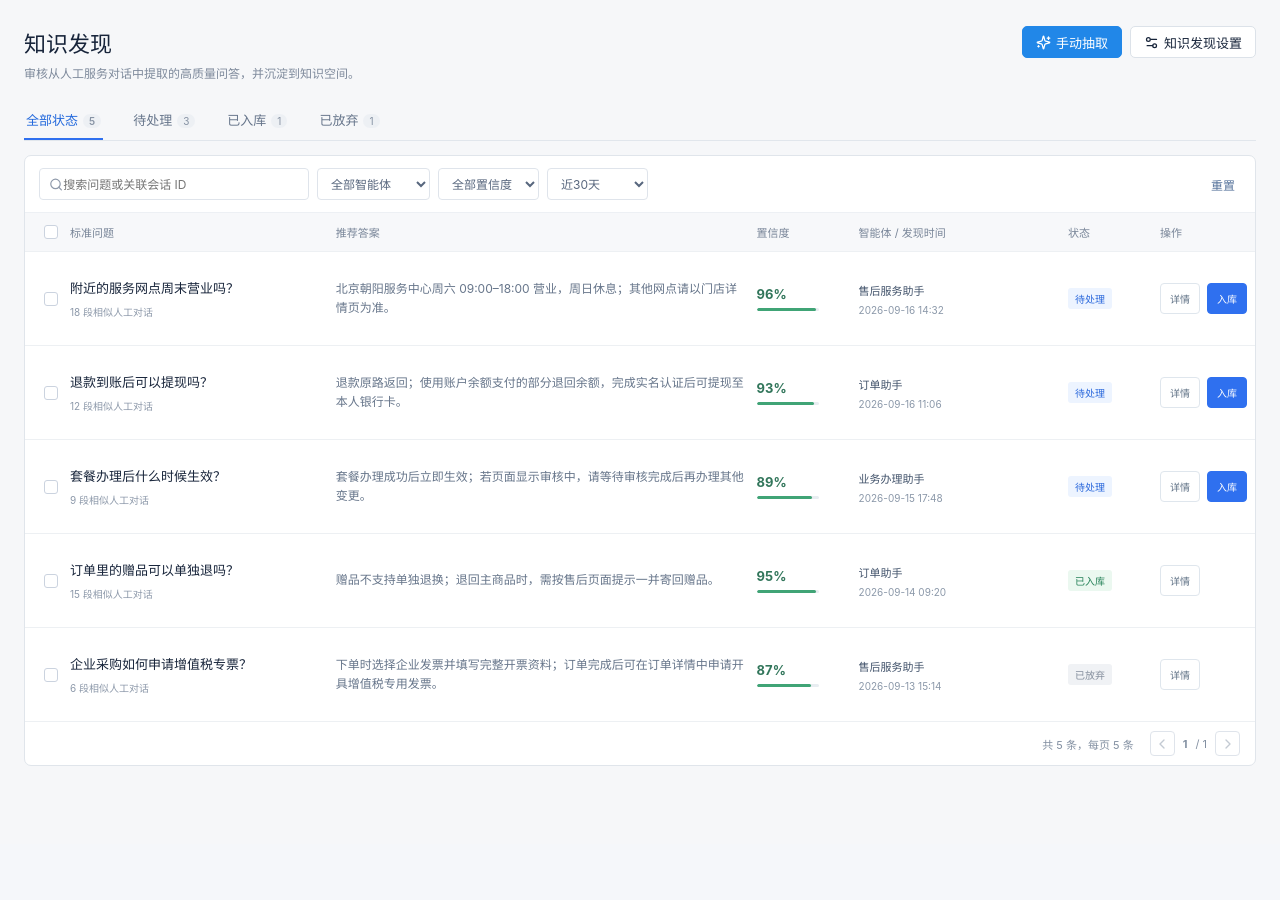
Test case: KnowledgeDiscoveryPage › reviews source conversation and adds a discovery to a selected knowledge space
Click the button "详情" in the row of "附近的服务网点周末营业吗？": (1180,298) x1=1160 y1=283 x2=1200 y2=314
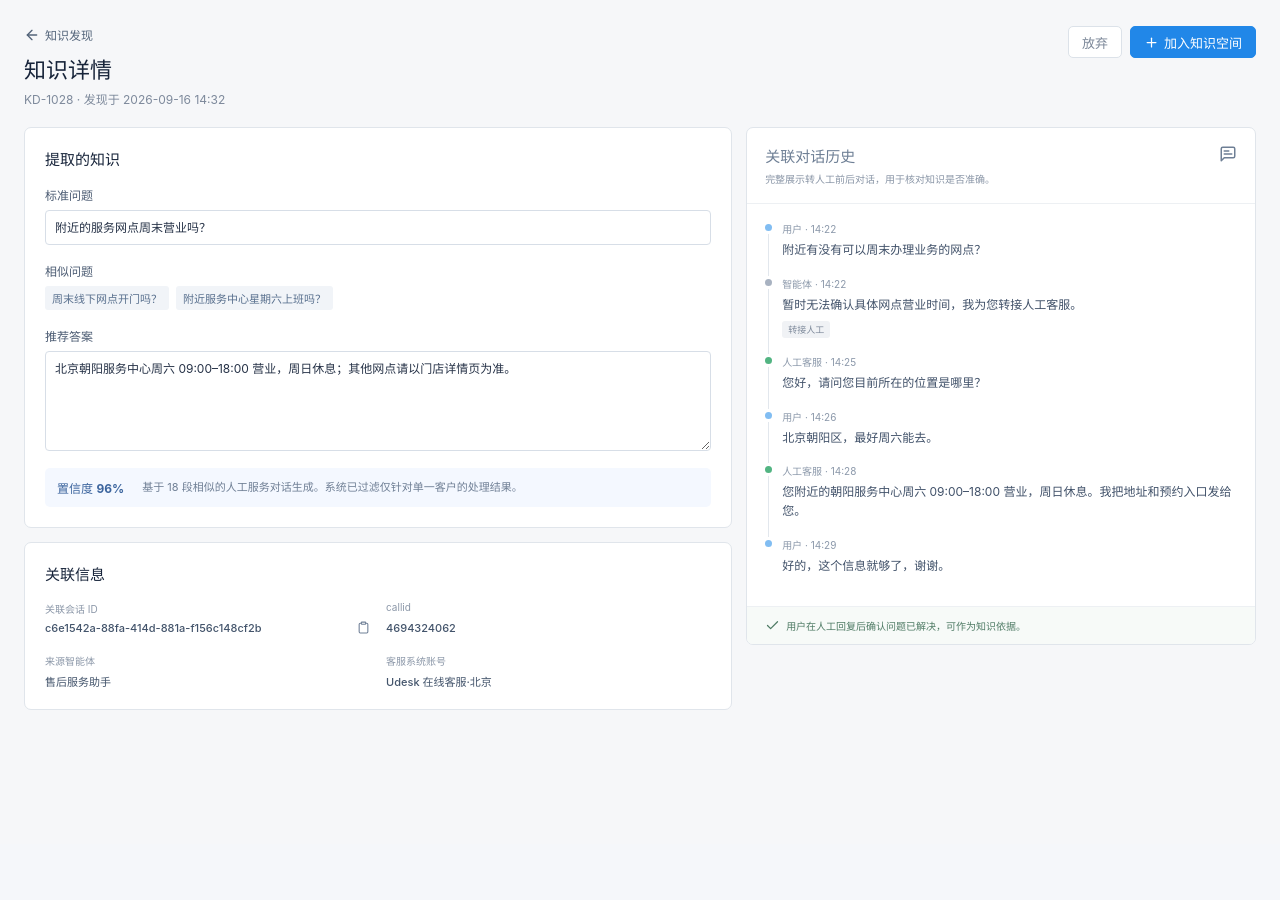
Check: the heading "知识详情" is shown, box x1=24 y1=57 x2=112 y2=83
Check: the text "c6e1542a-88fa-414d-881a-f156c148cf2b" is shown, box x1=45 y1=621 x2=262 y2=635
Check: the text "好的，这个信息就够了，谢谢。" is shown, box x1=782 y1=558 x2=950 y2=573
Click the button "加入知识空间": (1193,42) x1=1130 y1=26 x2=1256 y2=58
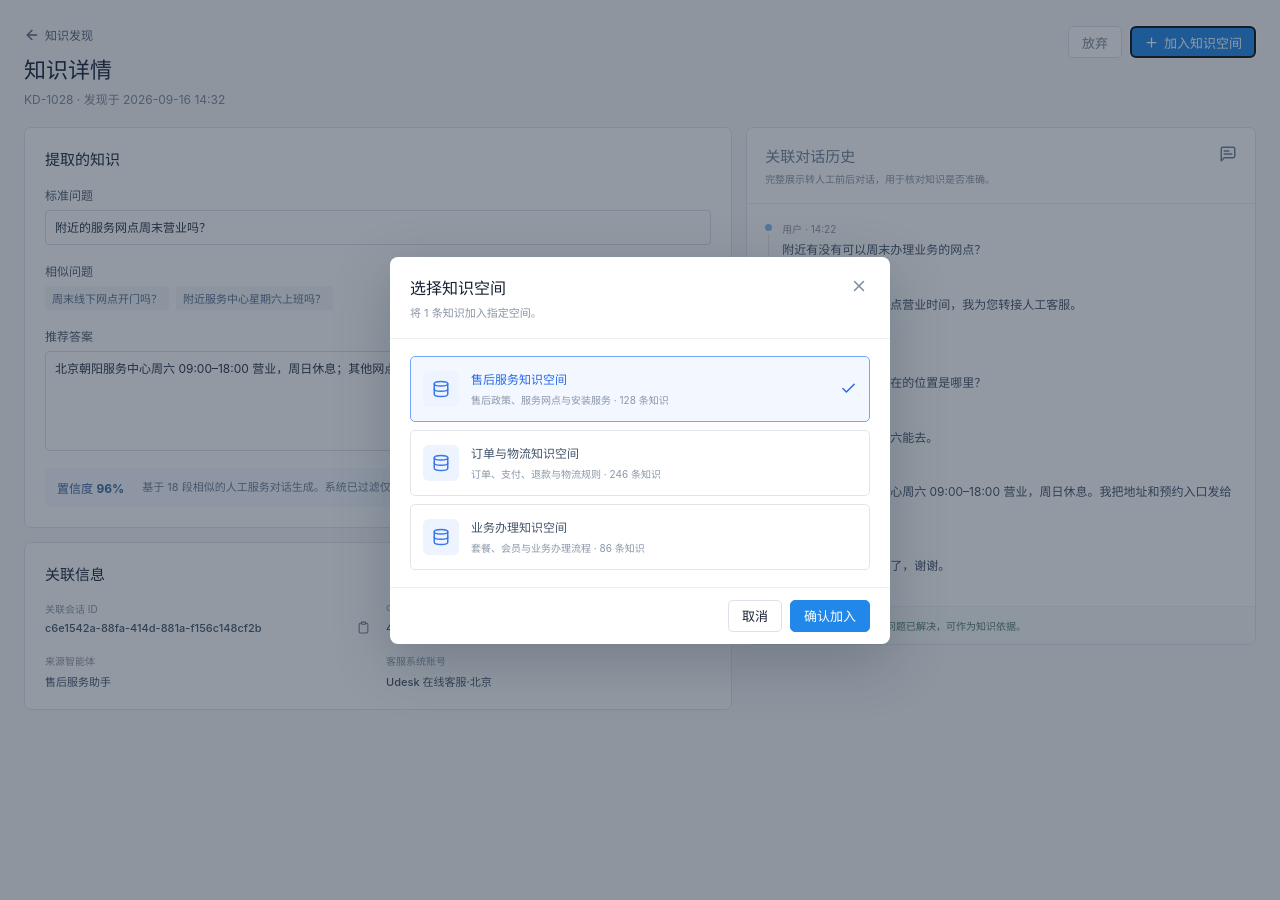
Click the button "订单与物流知识空间 订单、支付、退款与物流规则 · 246 条知识": (441,462) x1=410 y1=430 x2=870 y2=496
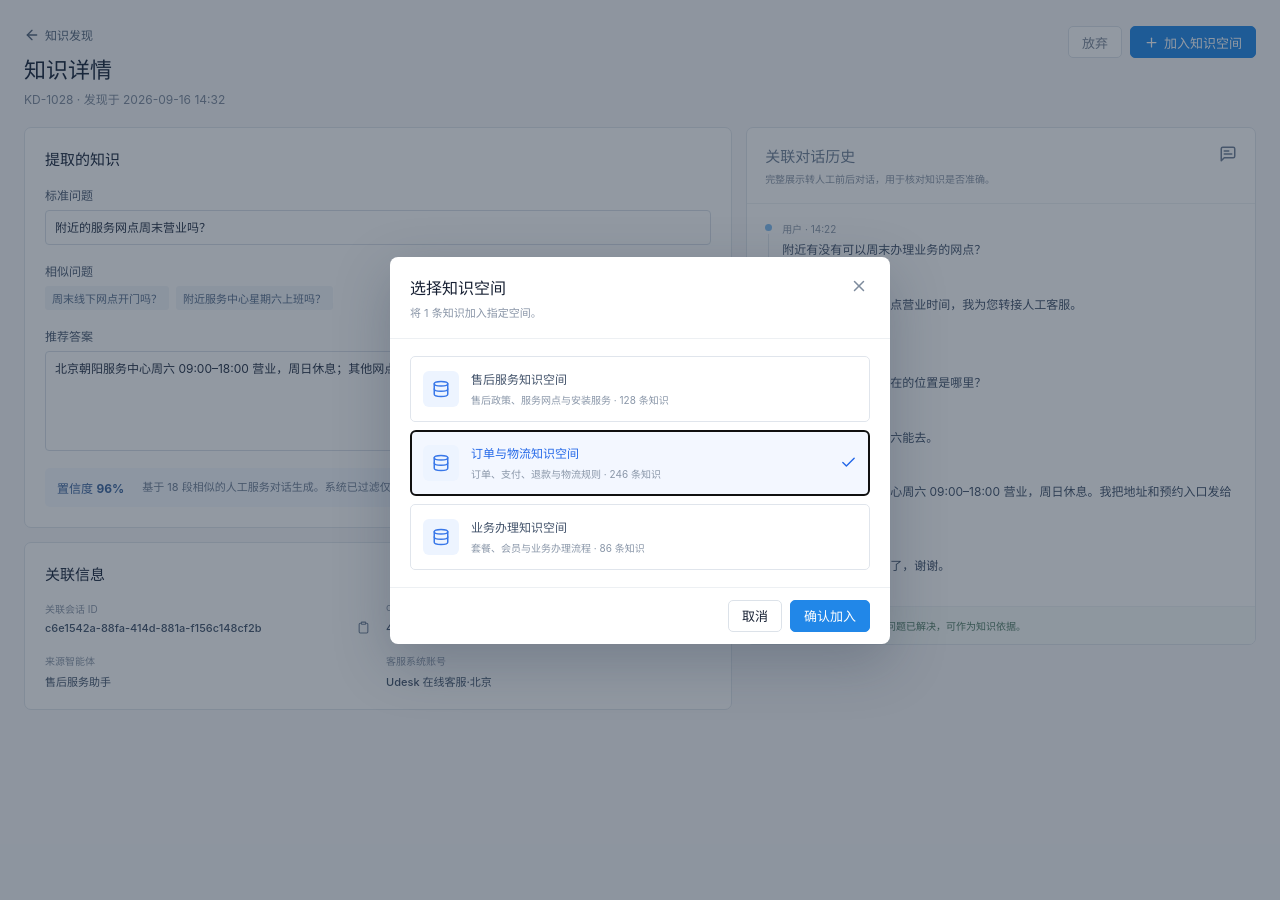
Click the button "确认加入": (830,616) x1=790 y1=600 x2=870 y2=632
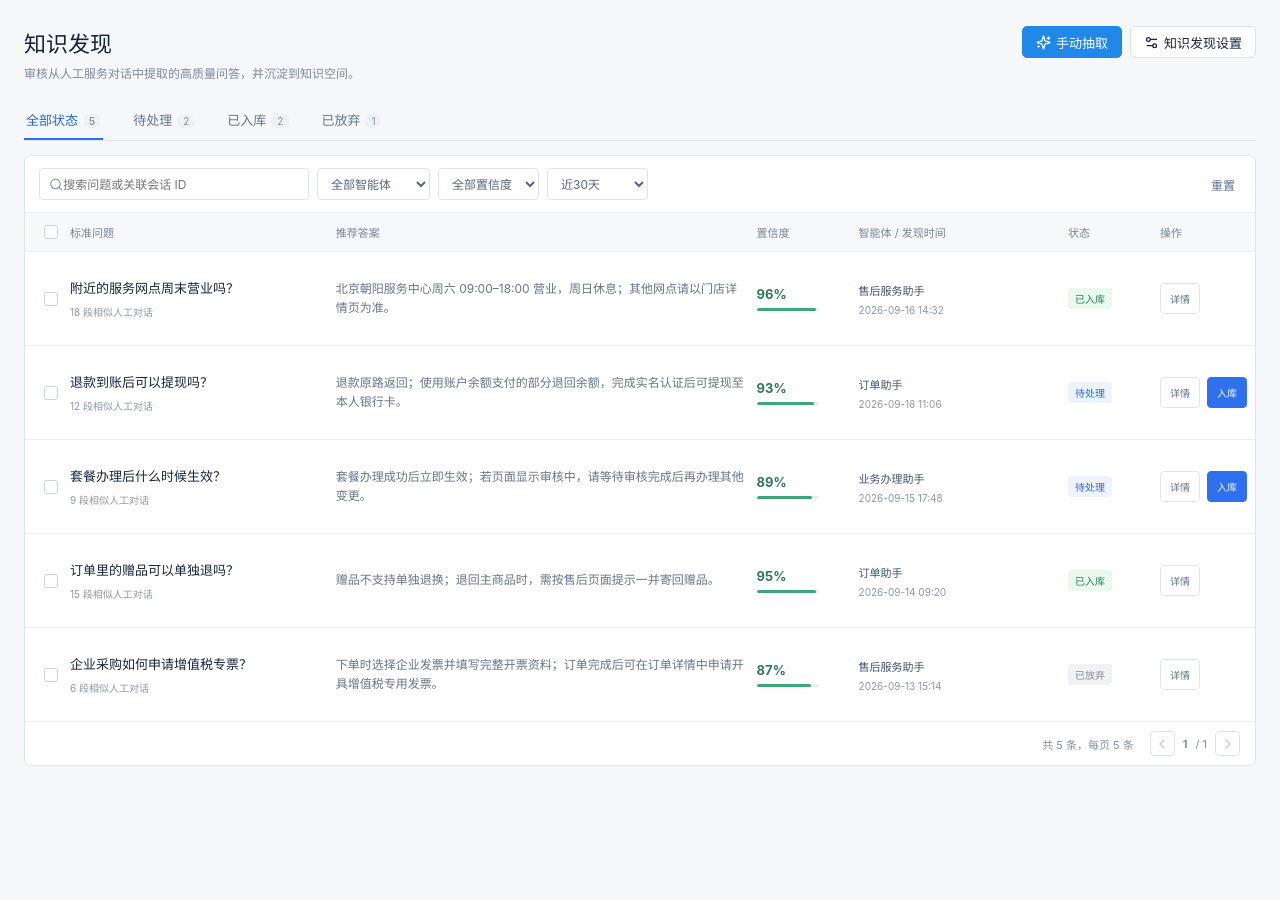
Check: the heading "知识发现" is shown, box x1=24 y1=31 x2=112 y2=57
Check: the button "已入库2" is shown, box x1=225 y1=101 x2=291 y2=140
